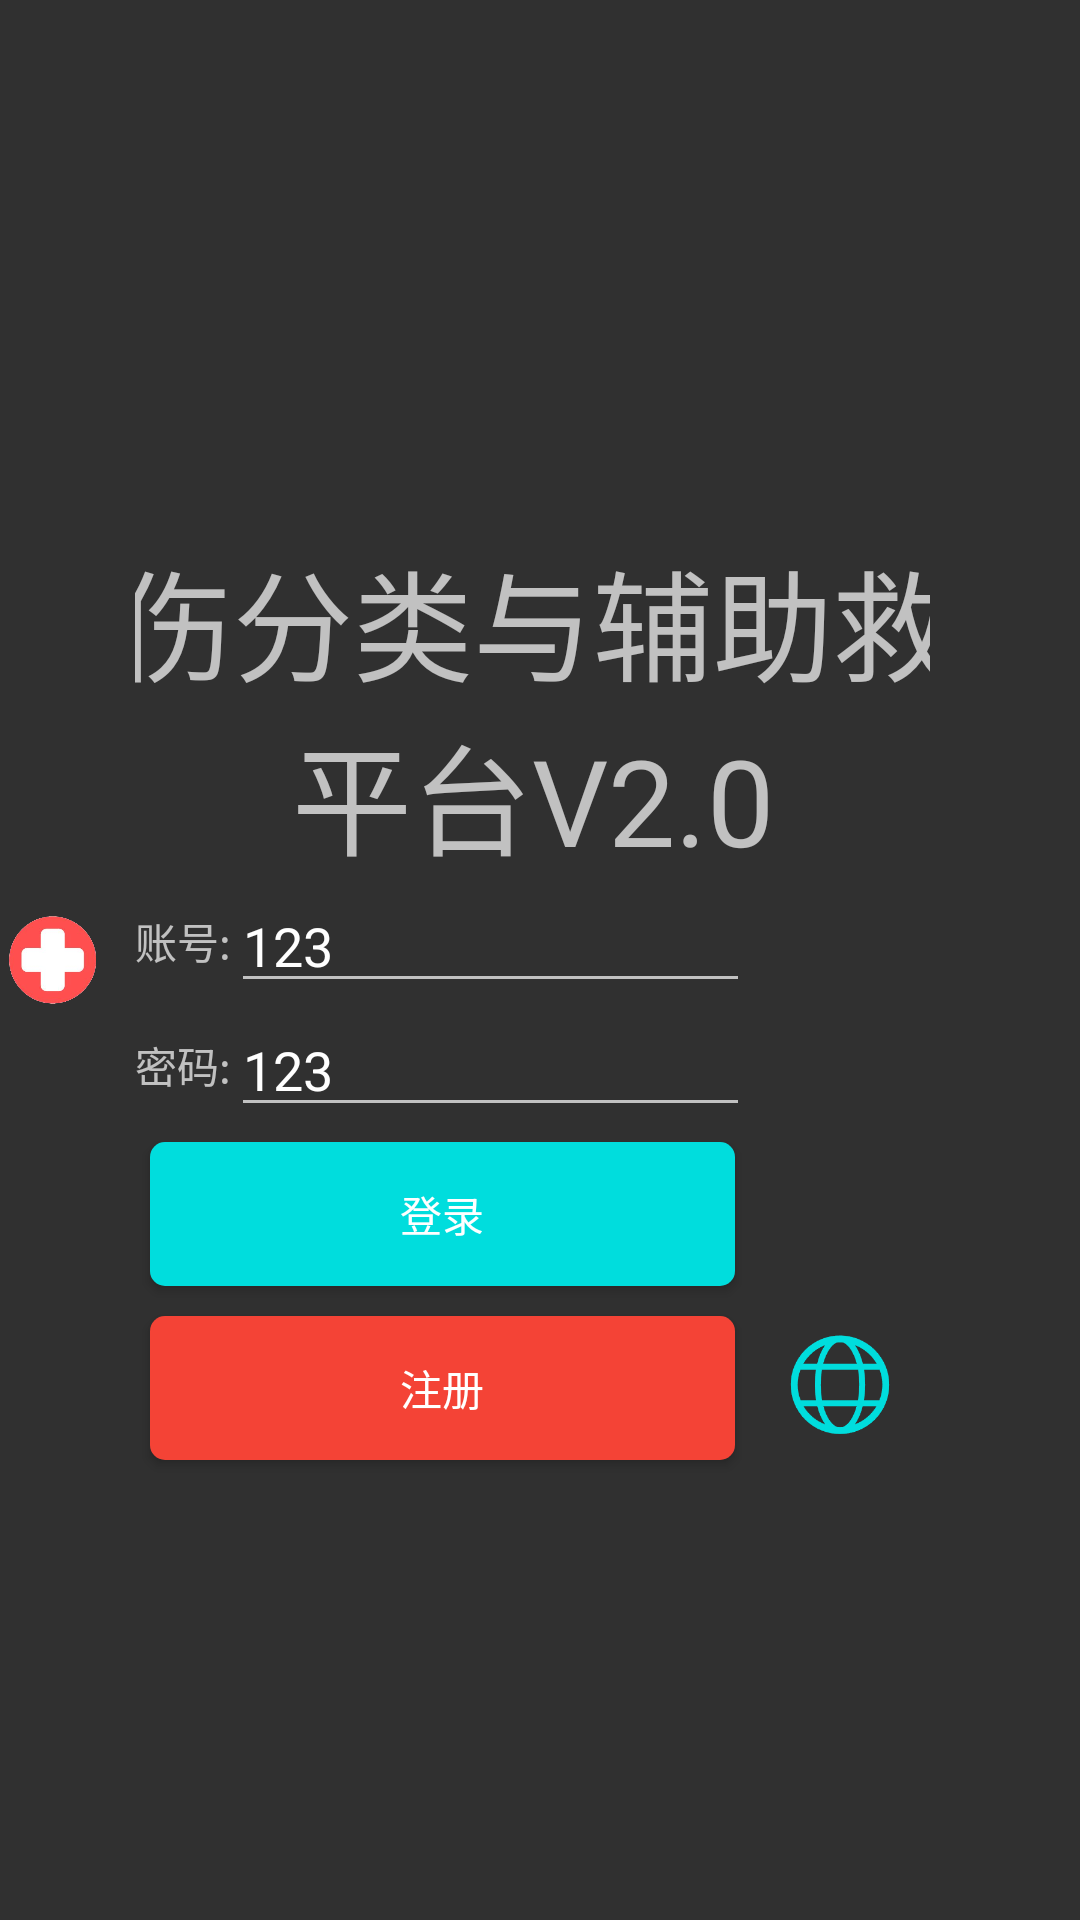

Icon bounding boxes for this 1080px×1920px phone screenshot, format bbox=(x1, y1, x2, y2):
network: bbox=(791, 1335, 889, 1434)
